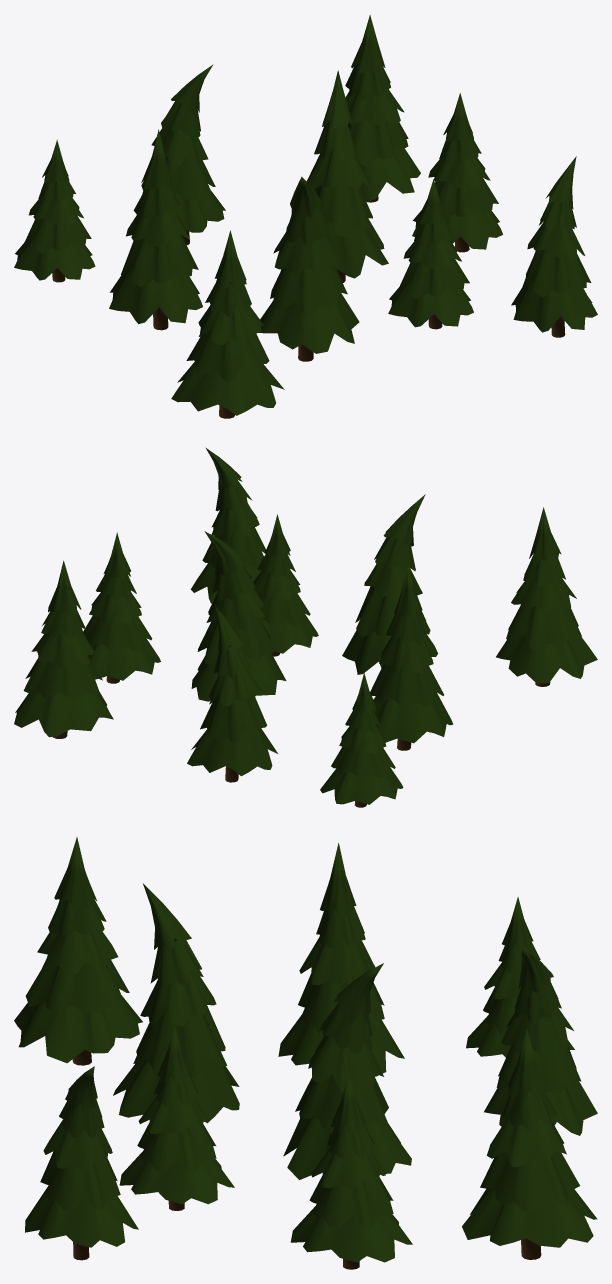
The model's file is pineTree.obj.
3 renders of one model, top to bottom at view 1: azimuth 30°, elevation 25°; view 2: azimuth 150°, elevation 25°; view 3: azimuth 270°, elevation 25°, orthographic. The views are drawn at different scales.
Parts seen in each view (by area): view 1: Resource_PineTree_Group_Cylinder.015; view 2: Resource_PineTree_Group_Cylinder.015; view 3: Resource_PineTree_Group_Cylinder.015.
Boxes of the visible parts, x1,y1,x2,y2 form: Resource_PineTree_Group_Cylinder.015: [14, 15, 597, 418]; Resource_PineTree_Group_Cylinder.015: [14, 447, 597, 807]; Resource_PineTree_Group_Cylinder.015: [14, 837, 597, 1269].
Size of the model in its own units: 1.78 by 0.7882 by 1.73.
